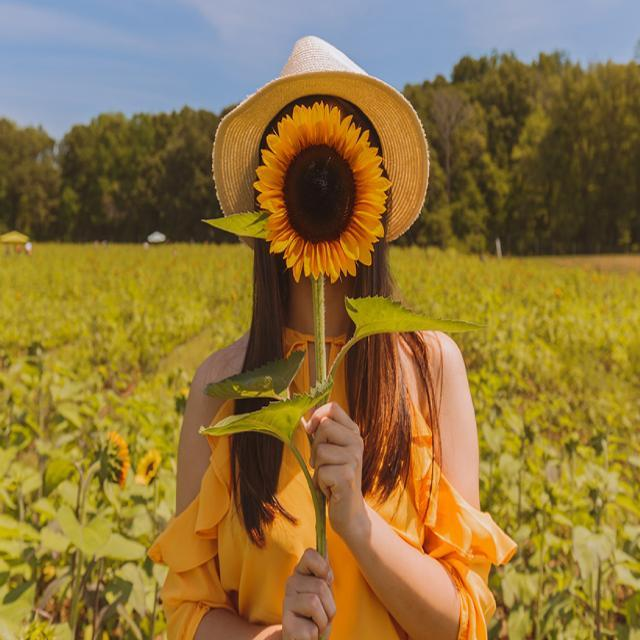sunflower: (253, 100, 392, 284), (104, 430, 130, 488), (134, 448, 162, 486)
